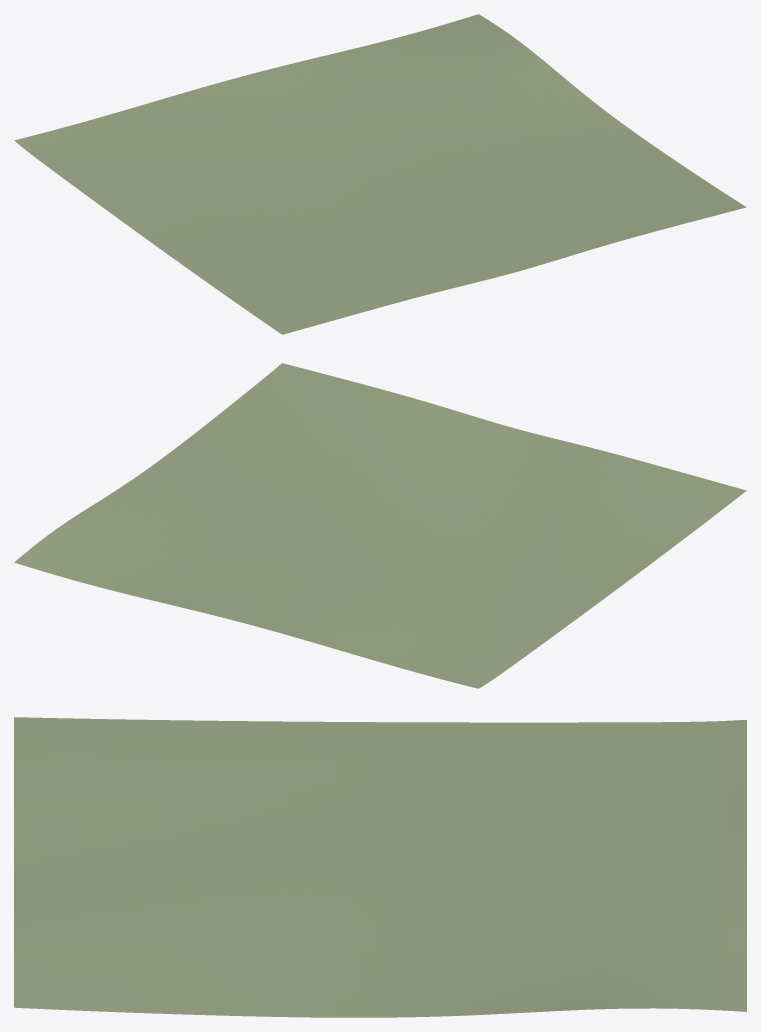
Rendered from lunar-2-2.glb.
The picture shows the model from 3 angles, top to bottom: view 1: azimuth 30°, elevation 25°; view 2: azimuth 150°, elevation 25°; view 3: azimuth 270°, elevation 25°; orthographic projection. The views are drawn at different scales.
Parts seen in each view (by area): view 1: lunar-2-2; view 2: lunar-2-2; view 3: lunar-2-2.
Part boxes in pixels (x1,y1,x2,y2): lunar-2-2: [14, 14, 746, 334]; lunar-2-2: [14, 363, 746, 688]; lunar-2-2: [14, 717, 746, 1017].
Size of the model in its own units: 128 by 4.74 by 128.
